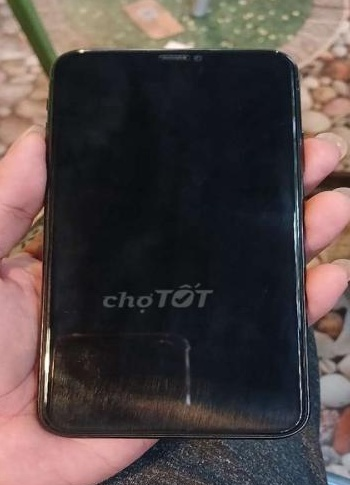scratch: (287, 246, 319, 431), (277, 44, 311, 197)
